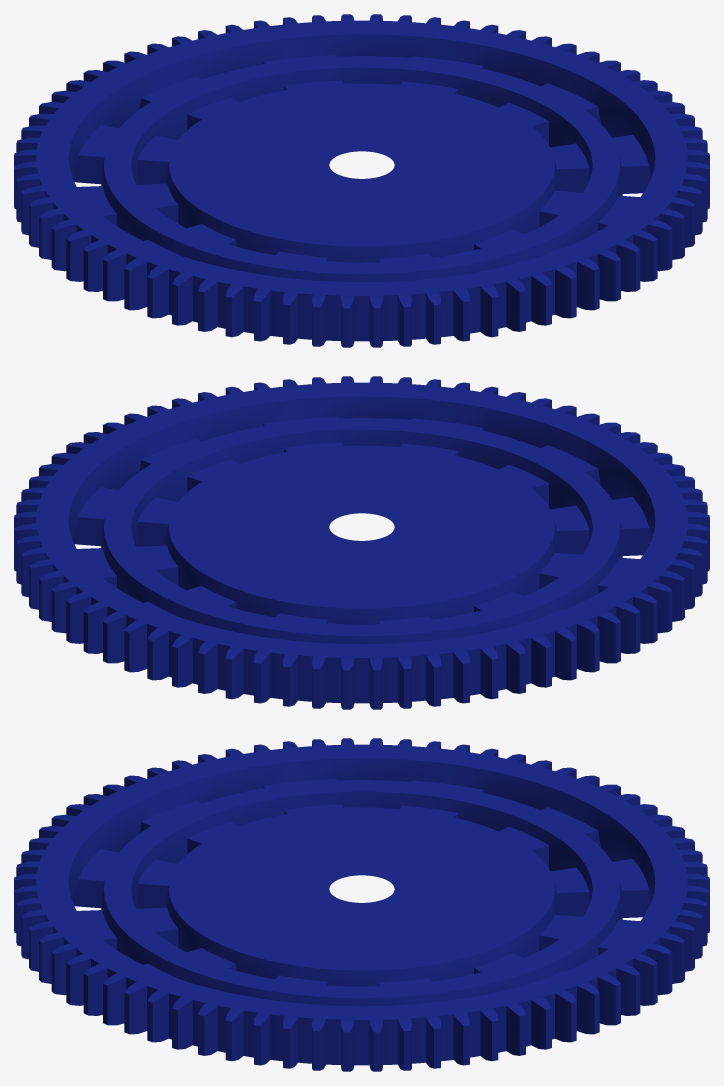
Rendered from Gear_Big.fbx.
3 views of the same model, one above another, from view 1: azimuth 30°, elevation 25°; view 2: azimuth 150°, elevation 25°; view 3: azimuth 270°, elevation 25° (orthographic).
Visible parts, largest first — view 1: Gear_Big; view 2: Gear_Big; view 3: Gear_Big.
Part boxes in pixels (x1,y1,x2,y2): Gear_Big: (14, 14, 709, 347); Gear_Big: (14, 376, 709, 709); Gear_Big: (14, 738, 709, 1071).
Bounding box in the file's own units: 2.78 × 2.78 × 0.2.
